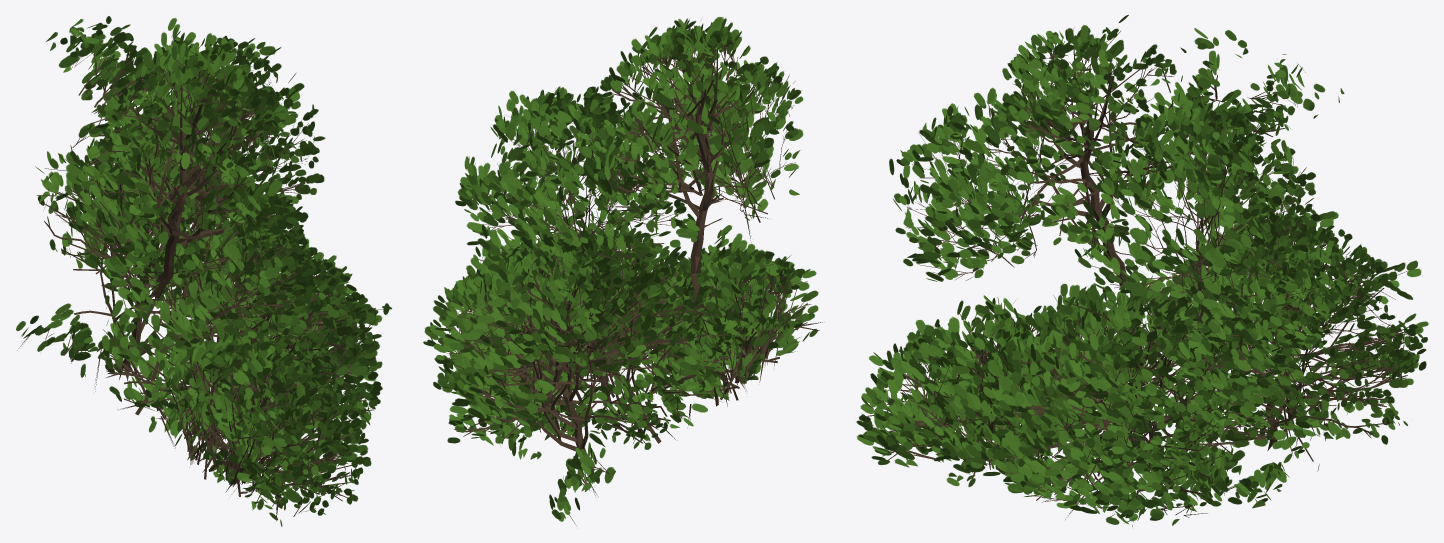
The picture shows the model from 3 angles, left to right: view 1: azimuth 30°, elevation 25°; view 2: azimuth 150°, elevation 25°; view 3: azimuth 270°, elevation 25°; orthographic projection. The views are drawn at different scales.
Visible parts, largest first — view 1: oak 01.001_trunk_Mat.001_0.456; view 2: oak 01.001_trunk_Mat.001_0.456; view 3: oak 01.001_trunk_Mat.001_0.456.
Part boxes in pixels (bbox=[...]): oak 01.001_trunk_Mat.001_0.456: bbox=[16, 16, 391, 526]; oak 01.001_trunk_Mat.001_0.456: bbox=[423, 17, 822, 525]; oak 01.001_trunk_Mat.001_0.456: bbox=[856, 14, 1428, 526].
Bounding box in the file's own units: 2.34 × 3.86 × 4.56.
Materials: 2 (1 with a texture image).
